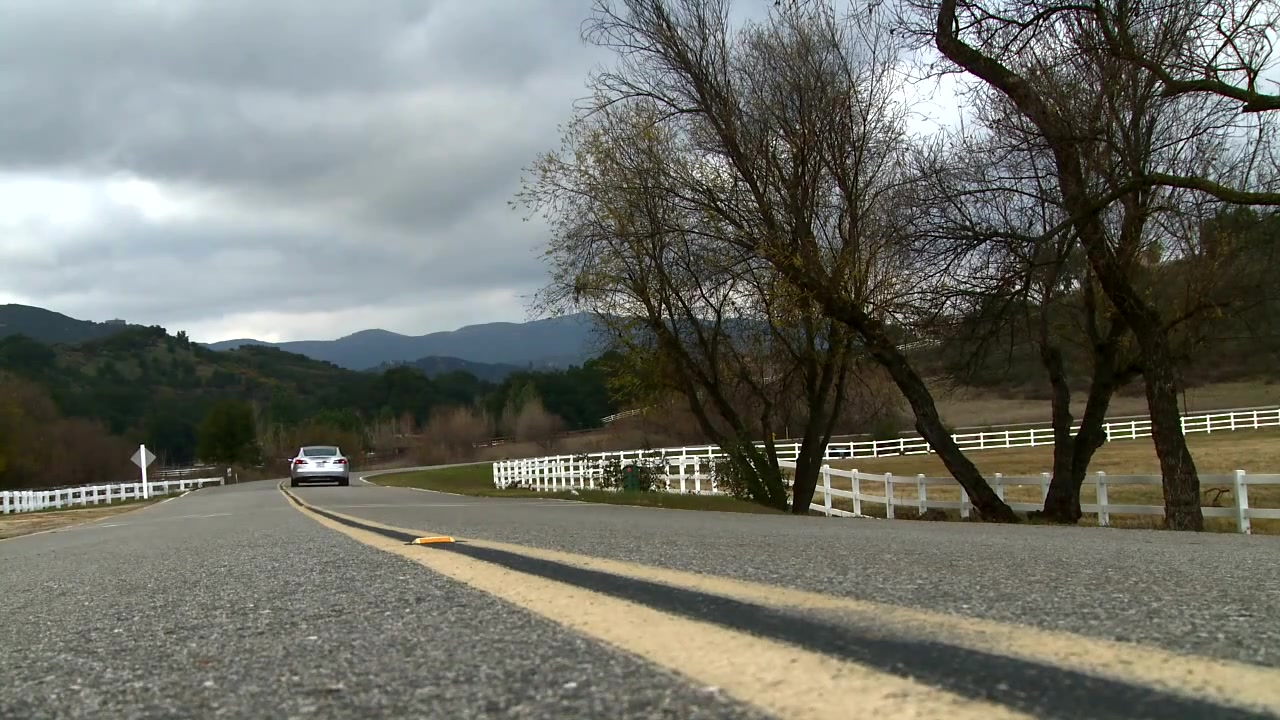car: (286, 443, 353, 490)
